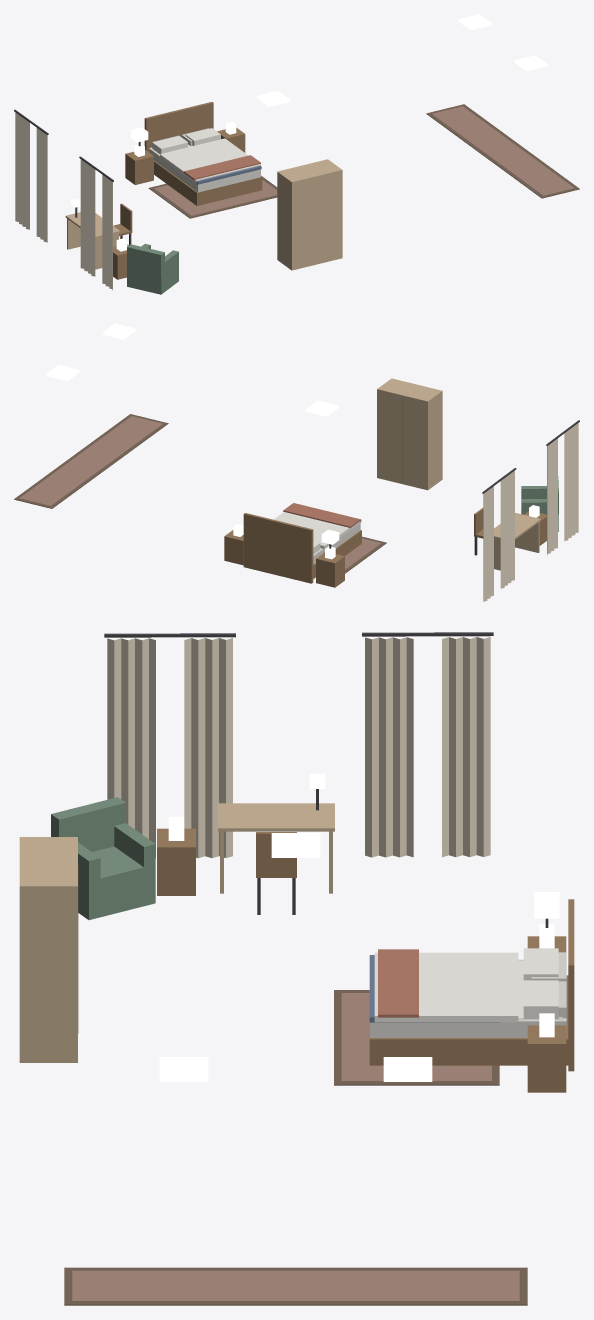
The model's file is fine-s1.glb.
3 renders of one model, top to bottom at view 1: azimuth 30°, elevation 25°; view 2: azimuth 150°, elevation 25°; view 3: azimuth 270°, elevation 25°, orthographic. The views are drawn at different scales.
Parts seen in each view (by area): view 1: soft-s1, dresser.000, bed-frame.000, lounge-chair.000, writing-desk.000, nightstand.000, side-table.000, nightstand.001, cafe-chair.000; view 2: soft-s1, dresser.000, bed-frame.000, writing-desk.000, nightstand.000, lounge-chair.000, nightstand.001, side-table.000; view 3: soft-s1, dresser.000, bed-frame.000, lounge-chair.000, writing-desk.000, nightstand.001, side-table.000, cafe-chair.000, ceiling-lamp.002, ceiling-lamp.003, ceiling-lamp.004.
Boxes of the visible parts, x1=… form: soft-s1: x1=14, y1=104, x2=579, y2=290; dresser.000: x1=277, y1=159, x2=342, y2=270; bed-frame.000: x1=144, y1=102, x2=262, y2=205; lounge-chair.000: x1=127, y1=244, x2=178, y2=294; writing-desk.000: x1=65, y1=199, x2=120, y2=269; nightstand.000: x1=125, y1=144, x2=153, y2=184; side-table.000: x1=113, y1=238, x2=128, y2=279; nightstand.001: x1=217, y1=121, x2=245, y2=152; cafe-chair.000: x1=113, y1=203, x2=132, y2=245; soft-s1: x1=14, y1=414, x2=579, y2=601; dresser.000: x1=377, y1=378, x2=442, y2=490; bed-frame.000: x1=243, y1=513, x2=361, y2=583; writing-desk.000: x1=494, y1=513, x2=540, y2=570; nightstand.000: x1=316, y1=546, x2=344, y2=587; lounge-chair.000: x1=521, y1=476, x2=558, y2=531; nightstand.001: x1=224, y1=523, x2=243, y2=565; side-table.000: x1=524, y1=505, x2=546, y2=545; soft-s1: x1=64, y1=632, x2=562, y2=1305; dresser.000: x1=19, y1=837, x2=78, y2=1062; bed-frame.000: x1=369, y1=899, x2=574, y2=1071; lounge-chair.000: x1=51, y1=797, x2=155, y2=919; writing-desk.000: x1=218, y1=773, x2=334, y2=893; nightstand.001: x1=527, y1=1013, x2=566, y2=1092; side-table.000: x1=157, y1=816, x2=195, y2=895; cafe-chair.000: x1=256, y1=832, x2=296, y2=914; ceiling-lamp.002: x1=383, y1=1057, x2=432, y2=1081; ceiling-lamp.003: x1=159, y1=1057, x2=208, y2=1081; ceiling-lamp.004: x1=271, y1=833, x2=320, y2=857.
Bounding box in the file's own units: 10.87 × 2.56 × 5.69.
